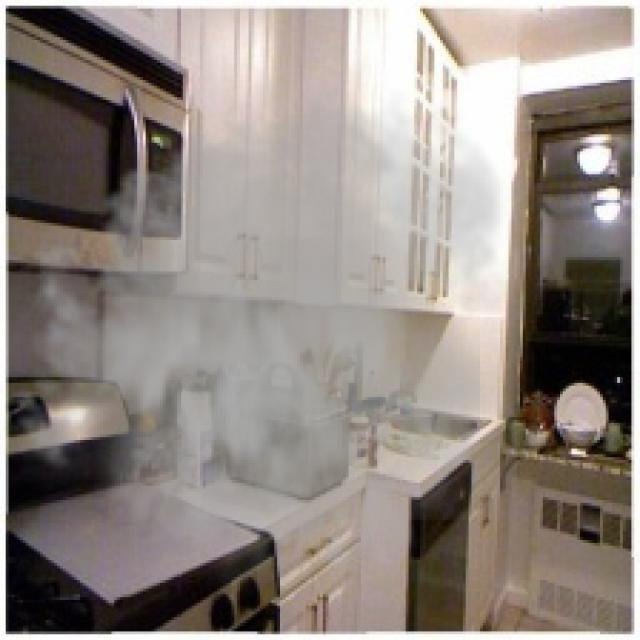smoke: (0, 69, 517, 614)
